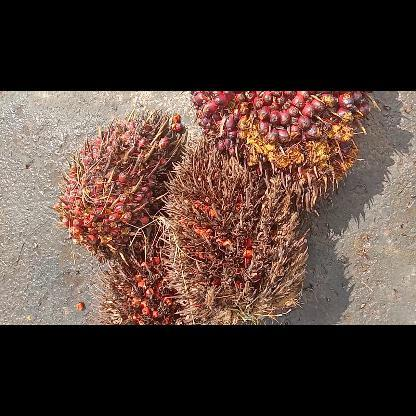TBS masak: (190, 91, 378, 211), (51, 106, 183, 263)
Terlalu masak: (157, 136, 309, 324), (89, 238, 183, 324)
